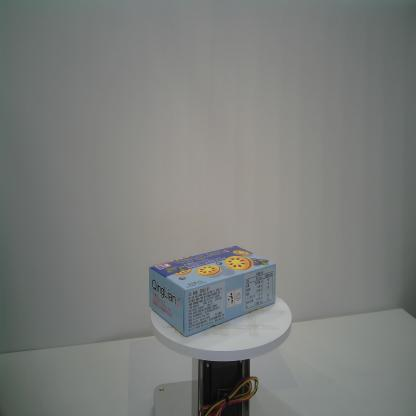Dessert: (149, 245, 276, 337)
